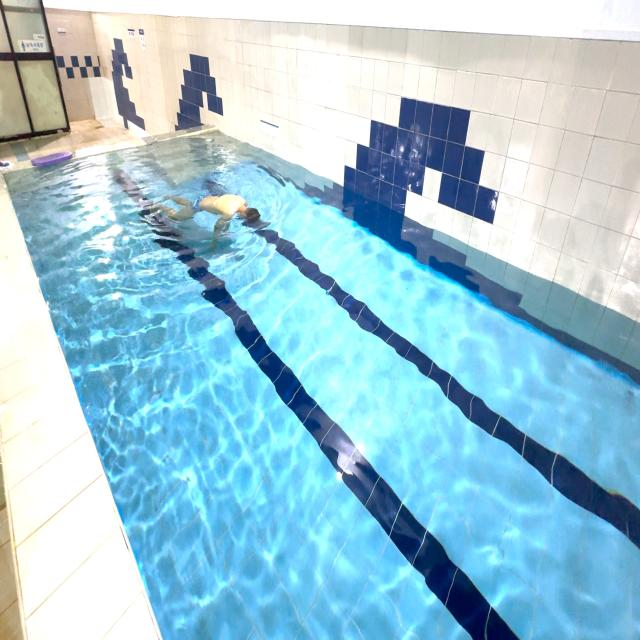Swimming: (138, 158, 264, 255)
